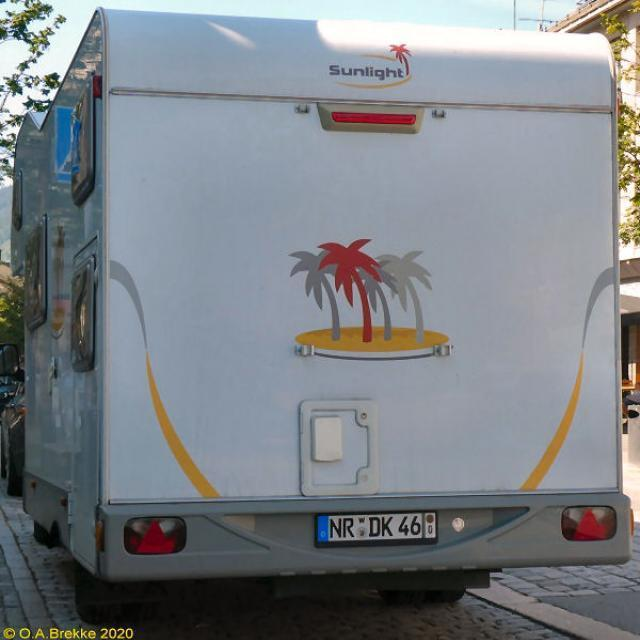License_Plate: (315, 512, 438, 544)
